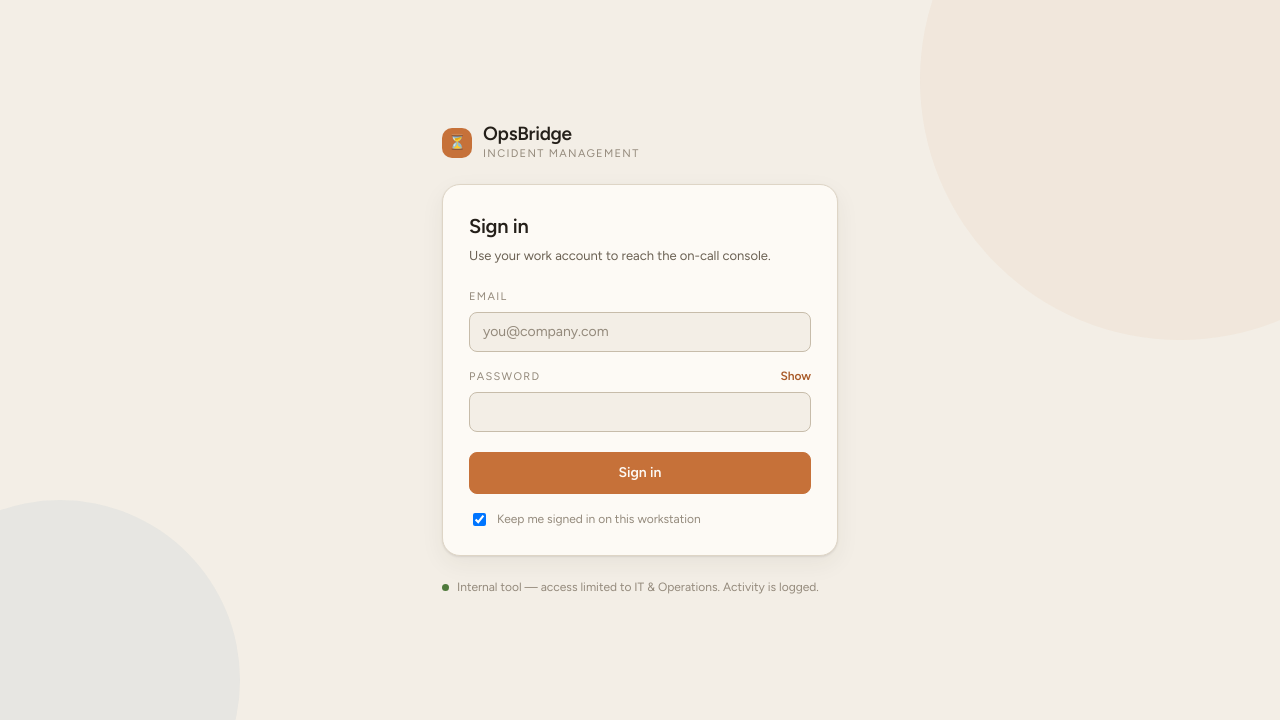
Test case: LoginPage › shows the mapped error message when login fails
Type "x@opsbridge.local" into the field labelled "Email".
click(640, 332); type("x@opsbridge.local")  # box 469,312 -> 811,352
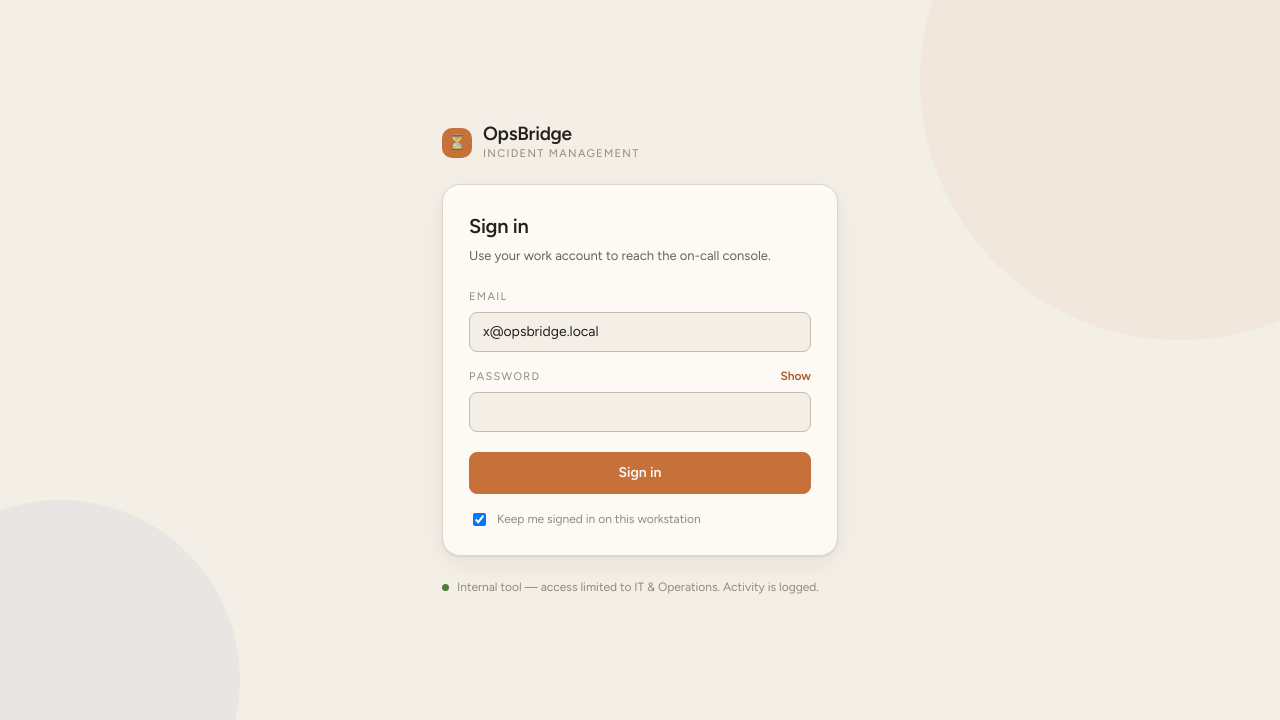
Type "wrong" into the password field labelled "Password".
click(640, 412); type("wrong")  # box 469,392 -> 811,432
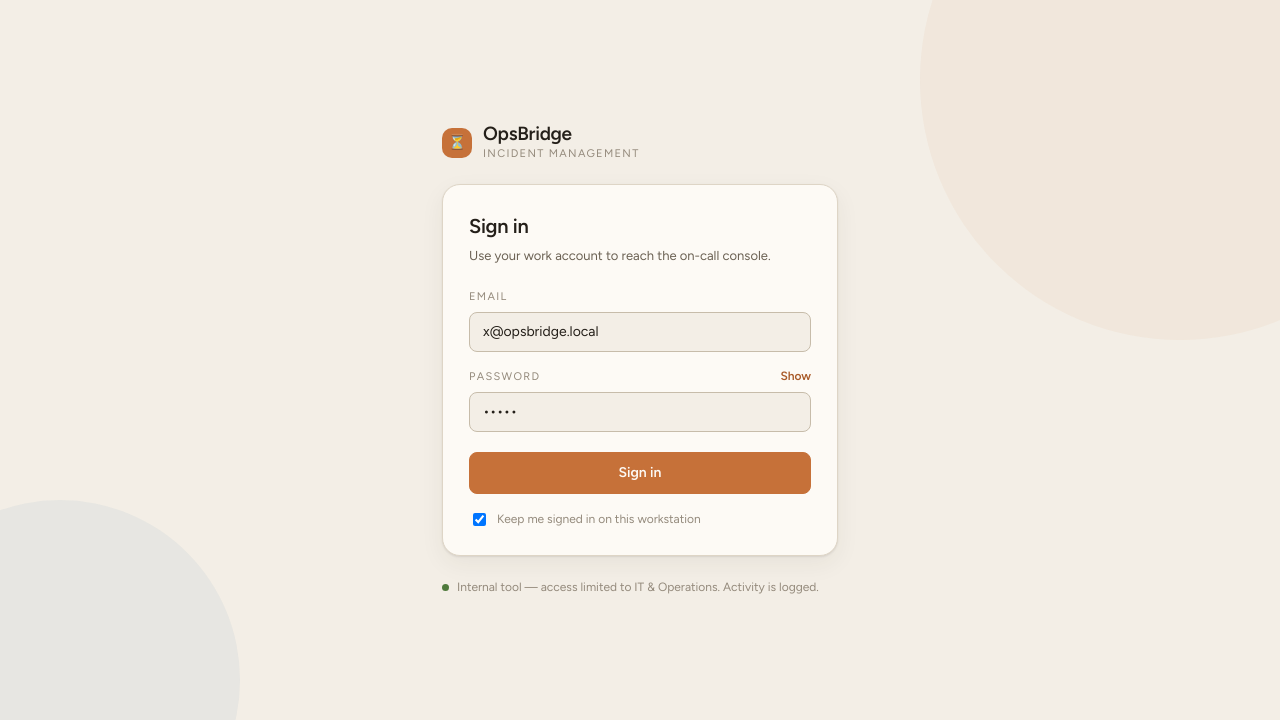
Click the button "Sign in".
click(640, 473)  # box 469,452 -> 811,494
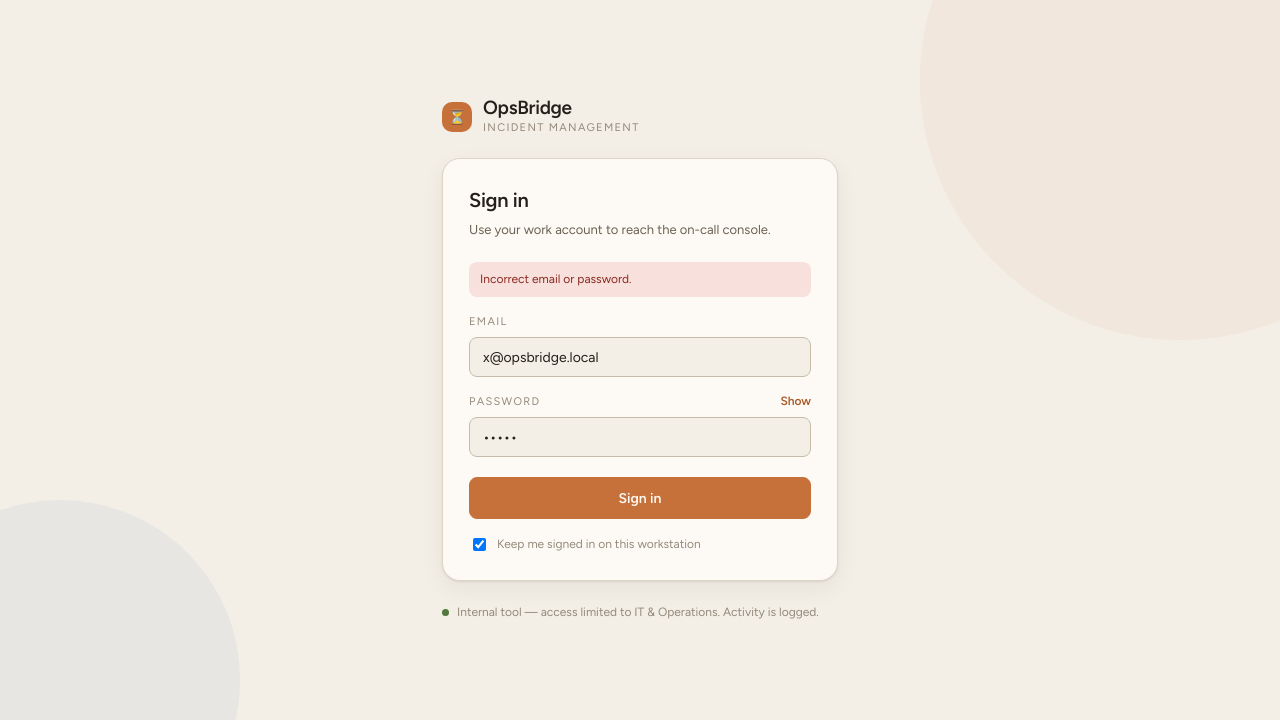
Expected: the message reads "Incorrect email or password.", 480,272 -> 632,286
